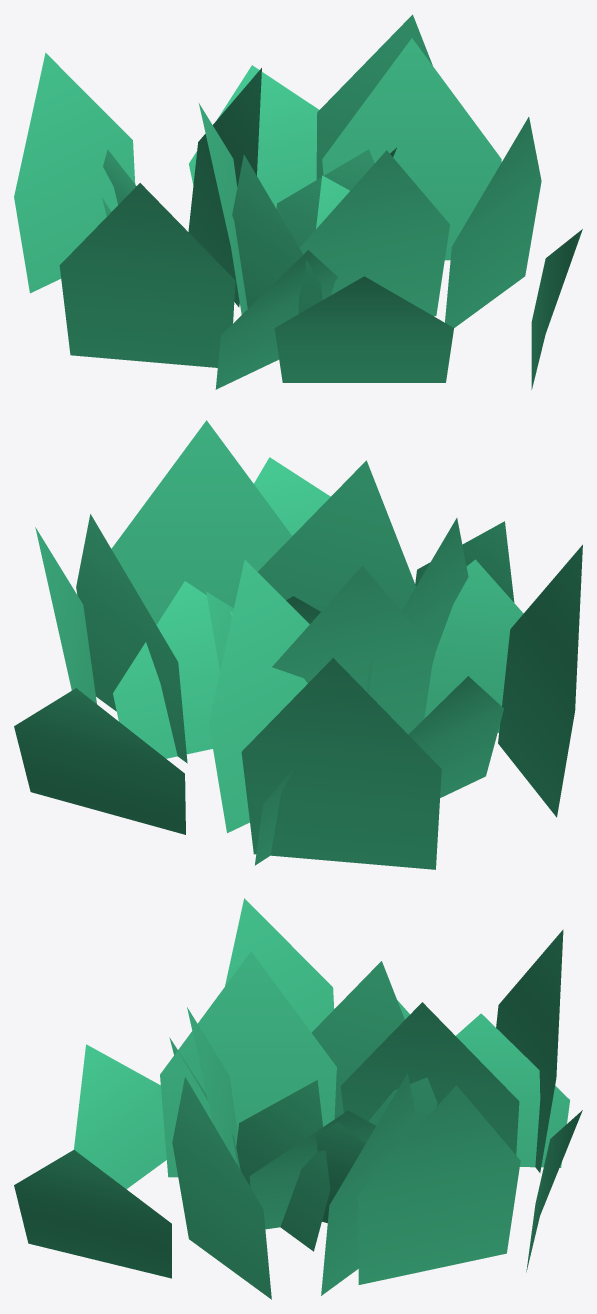
Rendered from short_grass.glb.
3 renders of one model, top to bottom at view 1: azimuth 30°, elevation 25°; view 2: azimuth 150°, elevation 25°; view 3: azimuth 270°, elevation 25°, orthographic. The views are drawn at different scales.
Visible parts, largest first — view 1: Mesh grass; view 2: Mesh grass; view 3: Mesh grass.
Boxes of the visible parts, x1,y1,x2,y2 form: Mesh grass: (14,14,582,389); Mesh grass: (14,420,582,869); Mesh grass: (14,898,582,1299).
Bounding box in the file's own units: 2 × 0.855 × 2.16.
